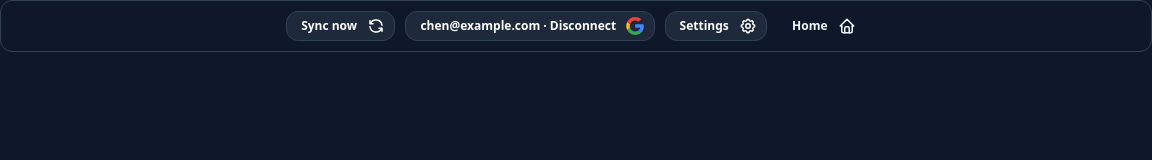
shows the connected email and disconnects on click
Click the button "chen@example.com · Disconnect" at (530, 26), box [405, 11, 654, 41]
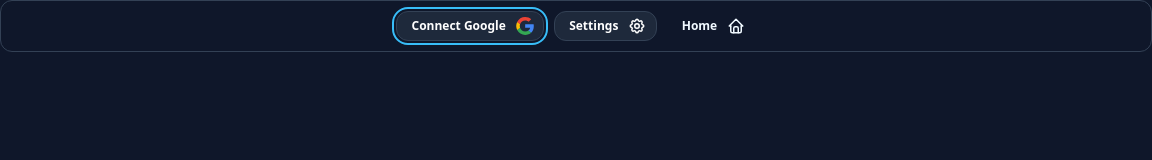
expect the button "Connect Google" is shown: met, box [396, 11, 544, 41]
